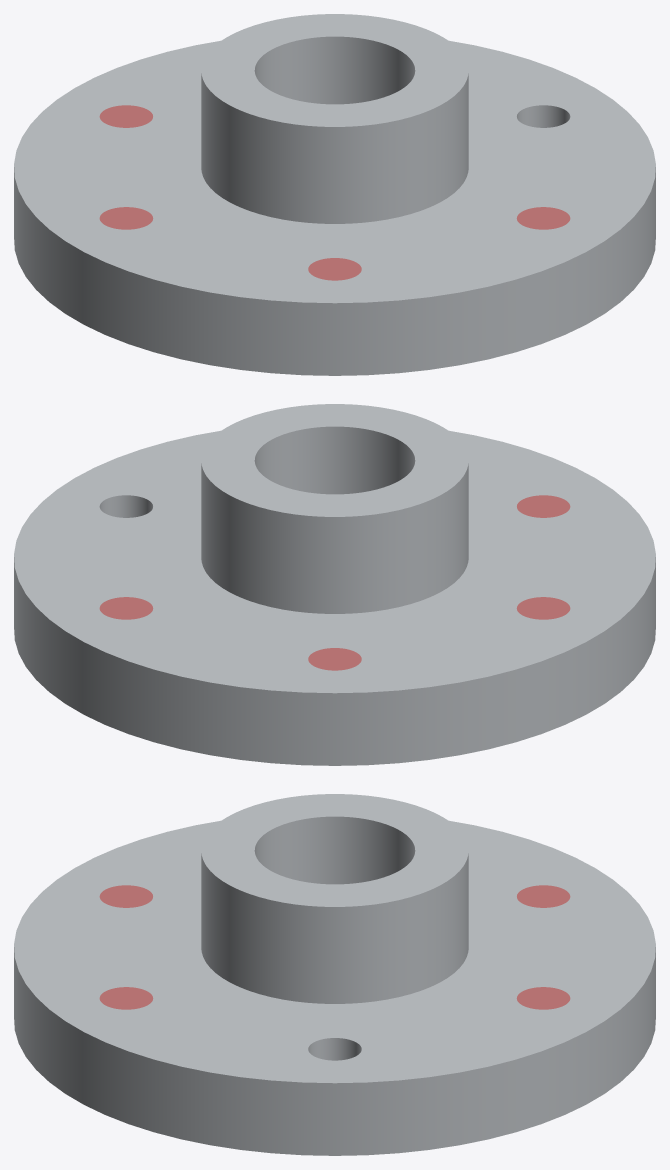
The model's file is step_06.glb.
3 renders of one model, top to bottom at view 1: azimuth 30°, elevation 25°; view 2: azimuth 150°, elevation 25°; view 3: azimuth 270°, elevation 25°, orthographic.
Parts seen in each view (by area): view 1: part__PCD flange, removed__PCD flange; view 2: part__PCD flange, removed__PCD flange; view 3: part__PCD flange, removed__PCD flange.
Part boxes in pixels (box(x1,y1,x2,y2)): part__PCD flange: box(14, 14, 655, 375); removed__PCD flange: box(99, 105, 570, 280); part__PCD flange: box(14, 404, 655, 765); removed__PCD flange: box(99, 495, 570, 670); part__PCD flange: box(14, 794, 655, 1155); removed__PCD flange: box(99, 885, 570, 1009).
Bounding box in the file's own units: 120 × 35 × 120.
